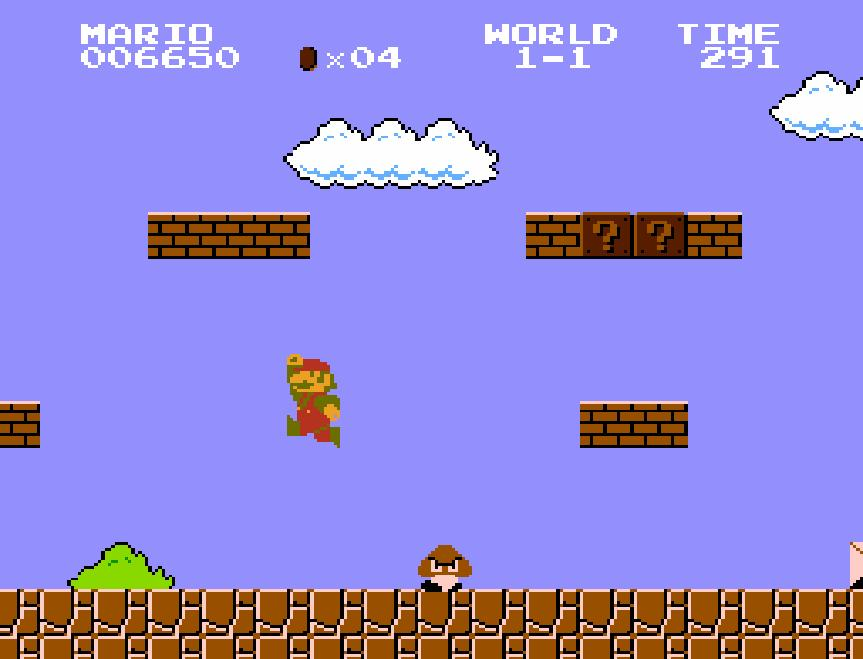big_mario: (284, 352, 342, 450)
